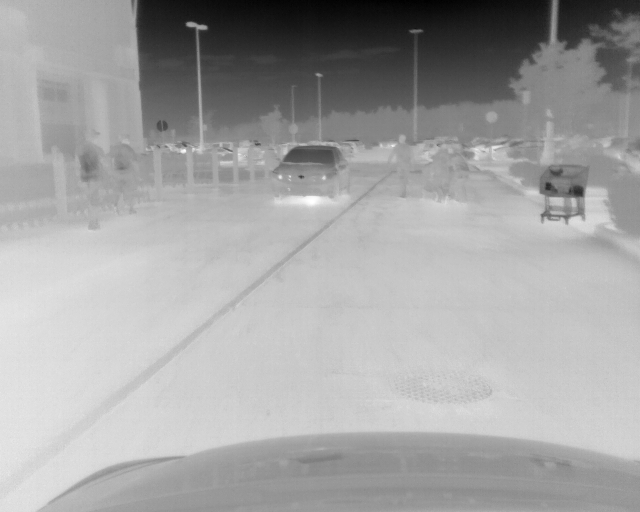car: (270, 144, 351, 202)
people: (70, 129, 105, 229), (107, 131, 138, 216), (553, 136, 582, 221), (386, 134, 410, 197), (428, 145, 448, 203), (449, 149, 469, 205)
